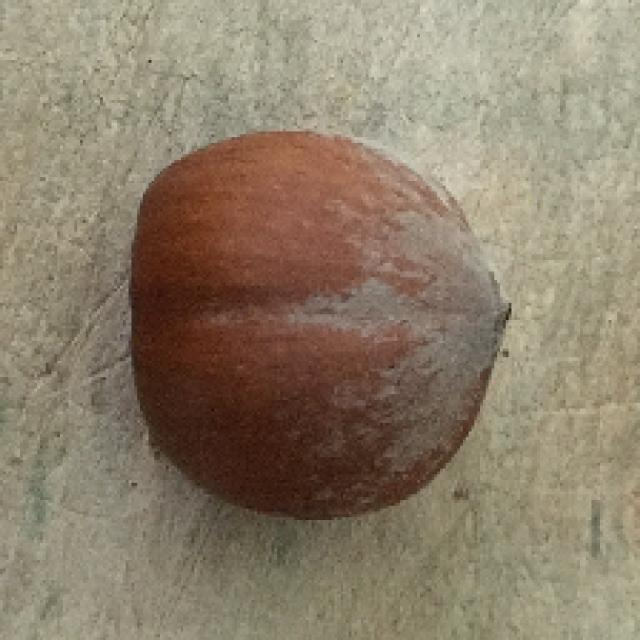QualityHazelnut: (127, 129, 516, 514)
